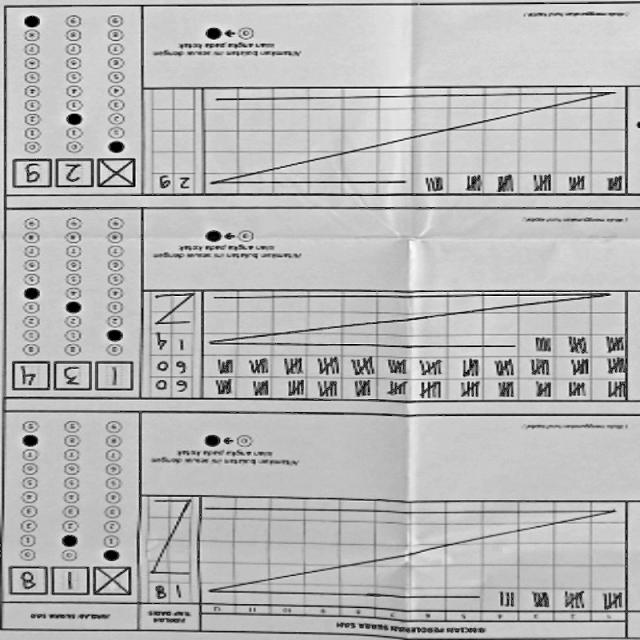Suara: (3, 562, 138, 604), (8, 156, 142, 198), (6, 358, 140, 399)
